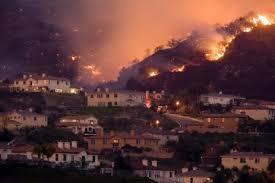fire: (241, 11, 275, 30), (170, 63, 187, 73)
